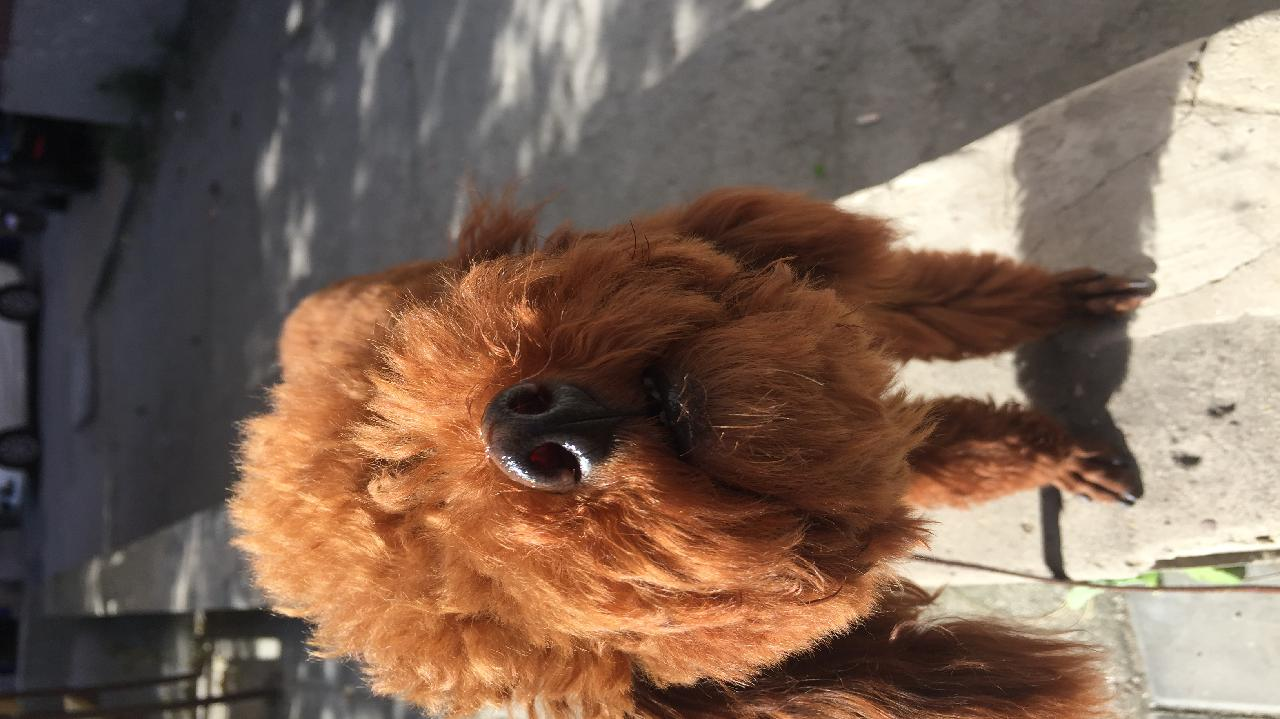coin: (235, 250, 1195, 710)
